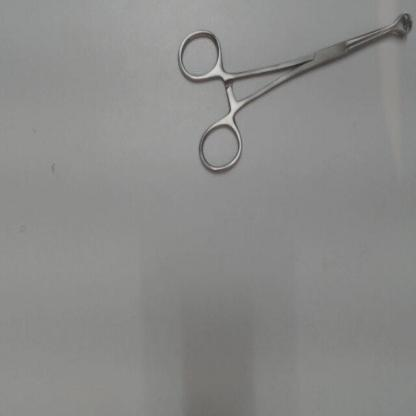Babcock Tissue Forceps: (176, 7, 416, 177)
